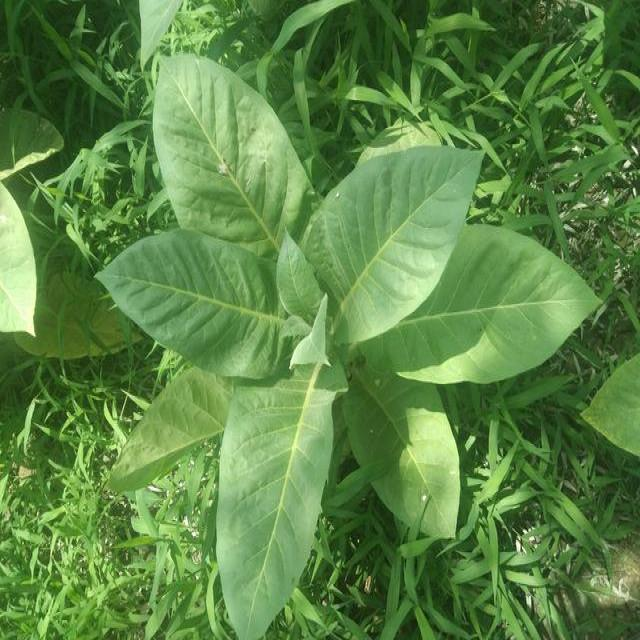crop: (110, 64, 590, 626)
